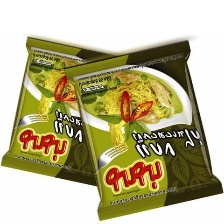snack: (58, 33, 224, 224), (0, 31, 137, 193)
